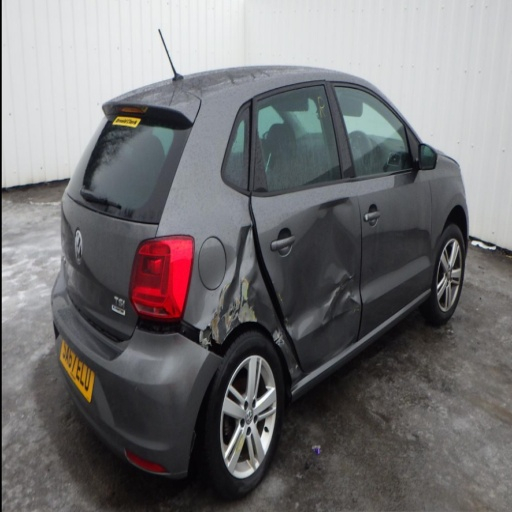dent: (279, 197, 361, 374), (196, 224, 260, 349), (252, 290, 300, 385), (194, 243, 237, 330), (291, 384, 298, 393)
